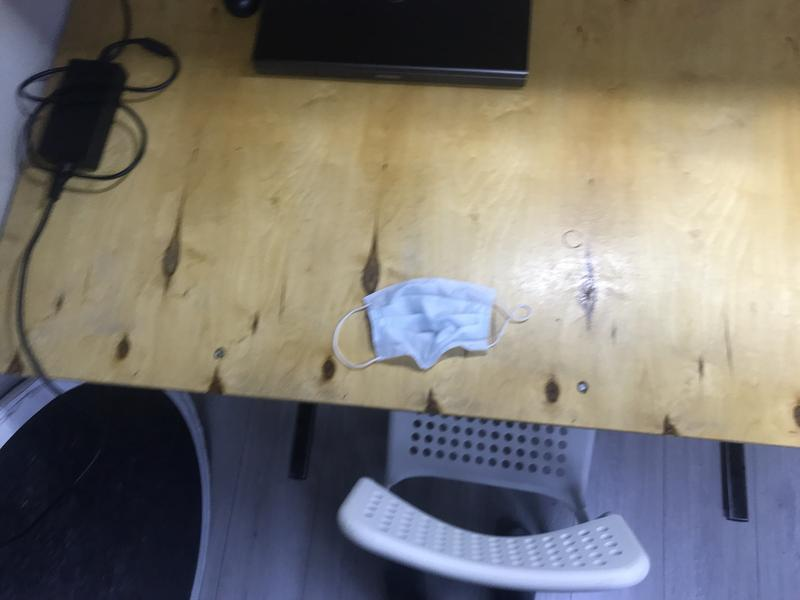medical_mask: (332, 279, 532, 370)
